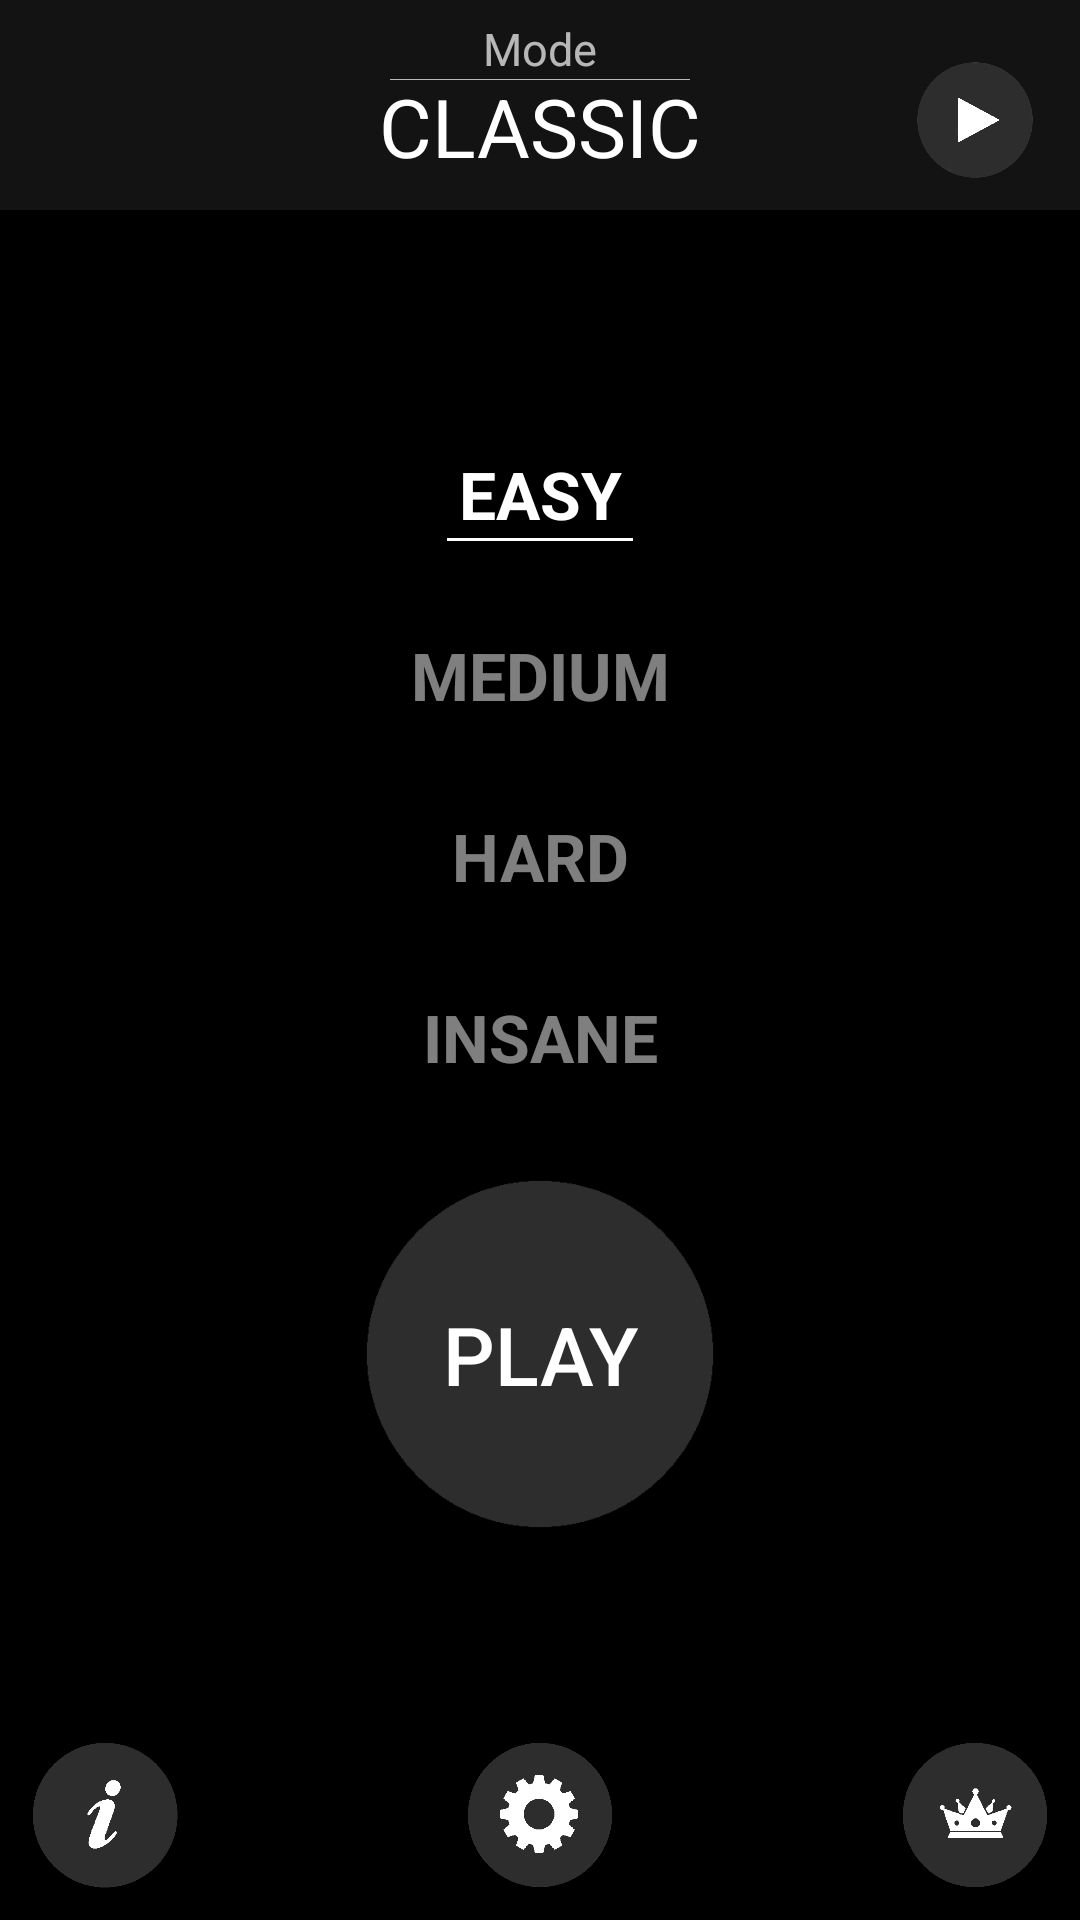

Icon click points for this 1080x1920 phone screenshot, format point (x, y):
darkhighscore: point (975, 1815)
darkinfo: point (105, 1815)
darksettings: point (540, 1815)
darktriangleright: point (975, 120)
